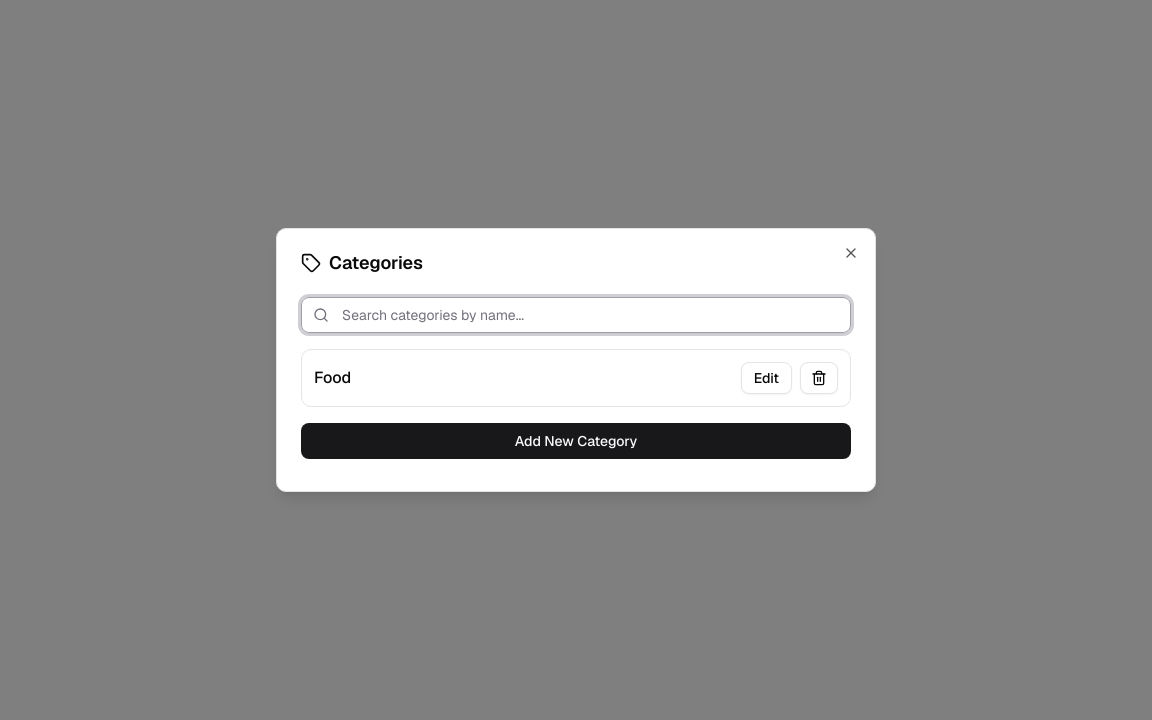
Test: ViewCategoriesModal › opens the edit dialog for a category
Expected: the text "Food" is shown, [314,366,351,390]
What coordinates should you click on to do the following:
click the button "Edit"
I would click on:
 (766, 378)
Its box is [741,362,792,394].
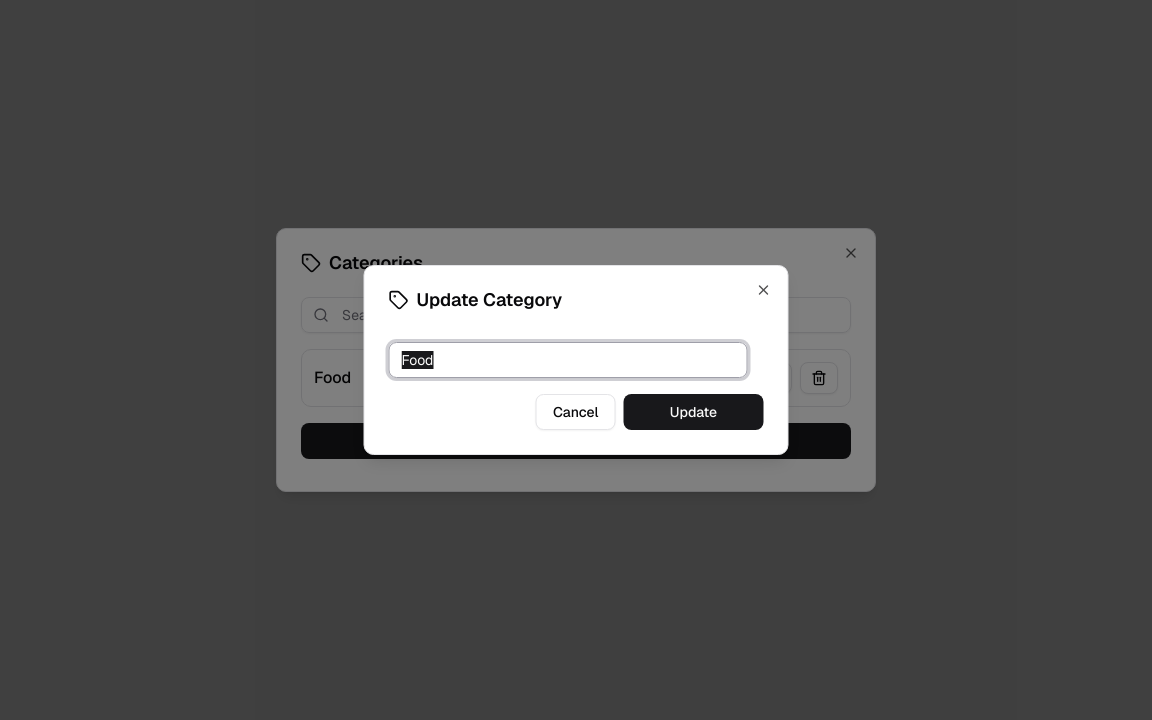
Now the dialog "Update Category" is shown, box [364,265,788,455]
